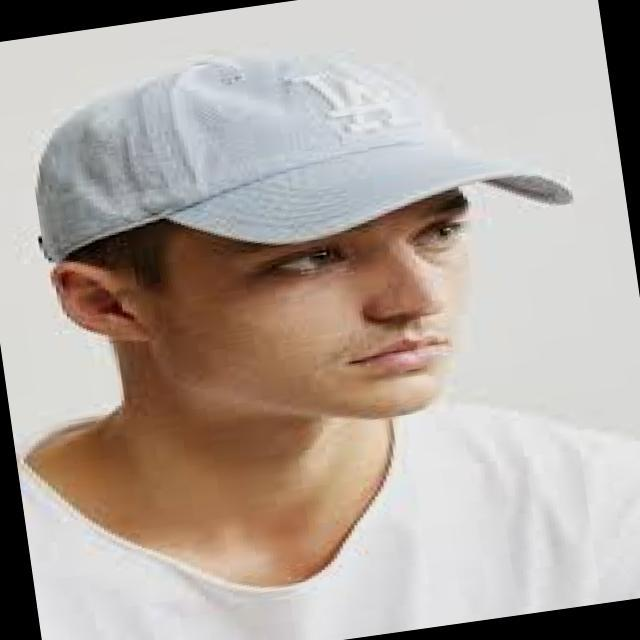cap: (0, 0, 604, 322)
